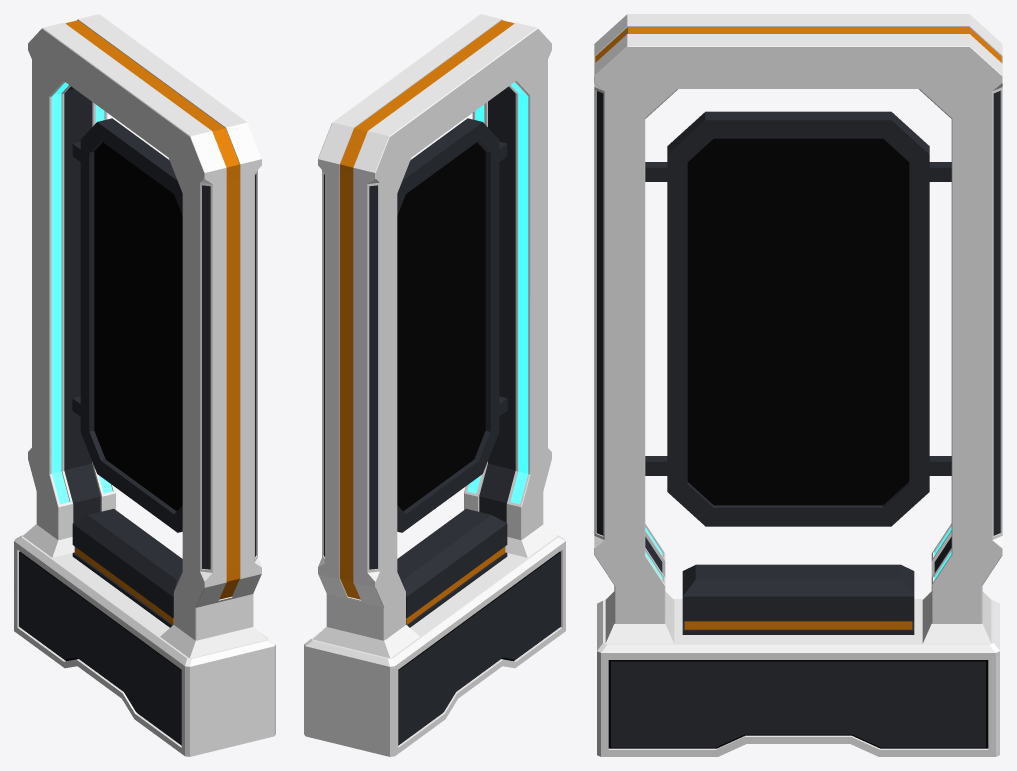
File: SM_MedScan_Vertical_Unit.fbx
3 renders of one model, left to right at view 1: azimuth 30°, elevation 25°; view 2: azimuth 150°, elevation 25°; view 3: azimuth 270°, elevation 25°, orthographic. The views are drawn at different scales.
Visible parts, largest first — view 1: SM_MedScan_Vertical_Unit.001; view 2: SM_MedScan_Vertical_Unit.001; view 3: SM_MedScan_Vertical_Unit.001.
Boxes of the visible parts, left/top/right/bottom form: SM_MedScan_Vertical_Unit.001: left=14, top=14, right=275, bottom=756; SM_MedScan_Vertical_Unit.001: left=304, top=14, right=565, bottom=756; SM_MedScan_Vertical_Unit.001: left=594, top=14, right=1002, bottom=756.
Bounding box in the file's own units: 30 × 192 × 101.
